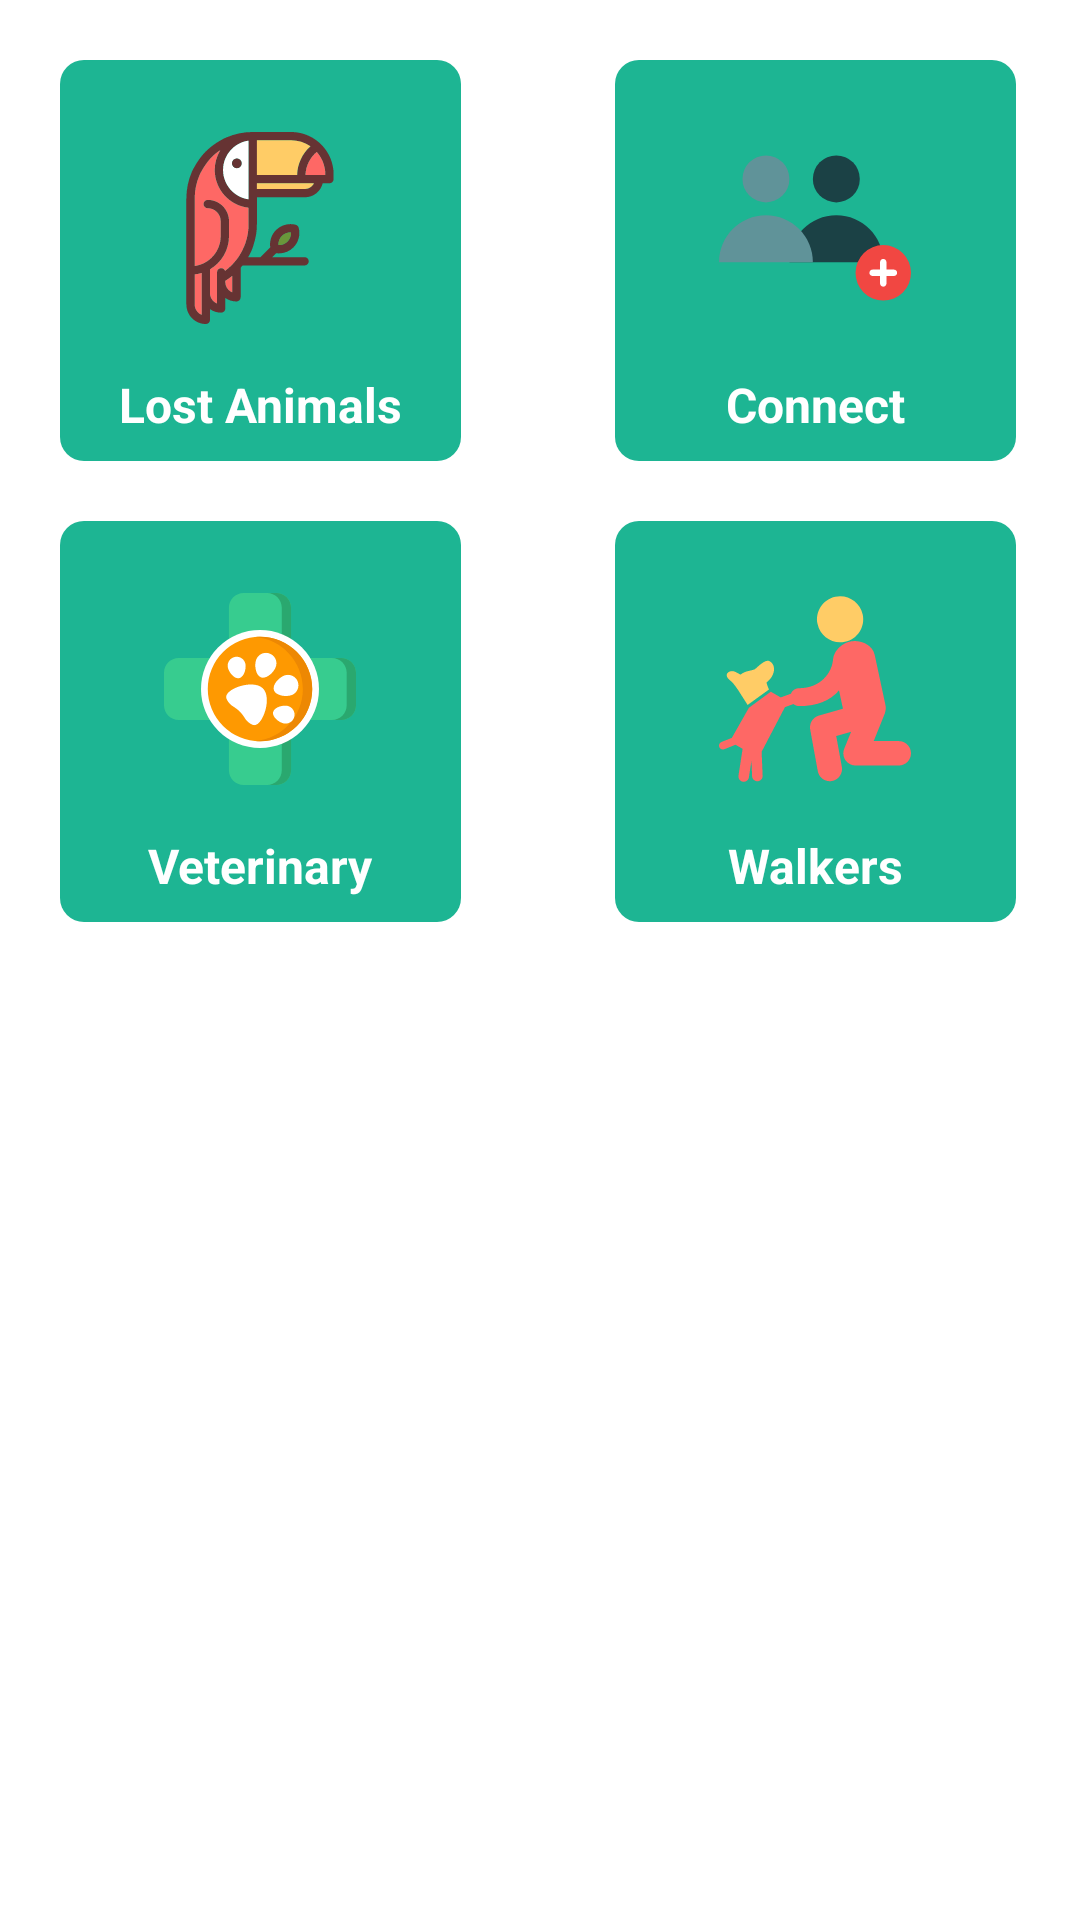

Where icons sit on this 1080px×1920px app screen, as region(x1, y1, x2, y2):
toucan animals: region(186, 132, 334, 324)
users friends: region(719, 155, 911, 301)
veterinarian: region(164, 593, 356, 785)
